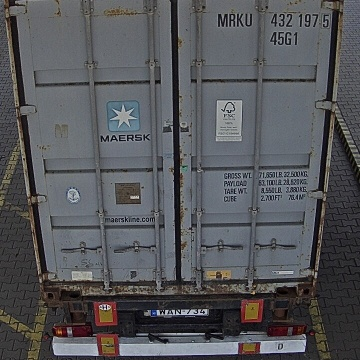serial_id: (218, 13, 331, 26)
